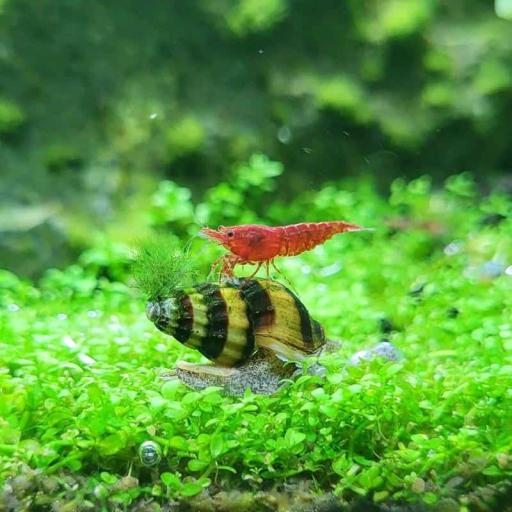Shrimp: (182, 208, 366, 279)
Snail: (134, 271, 344, 377)
